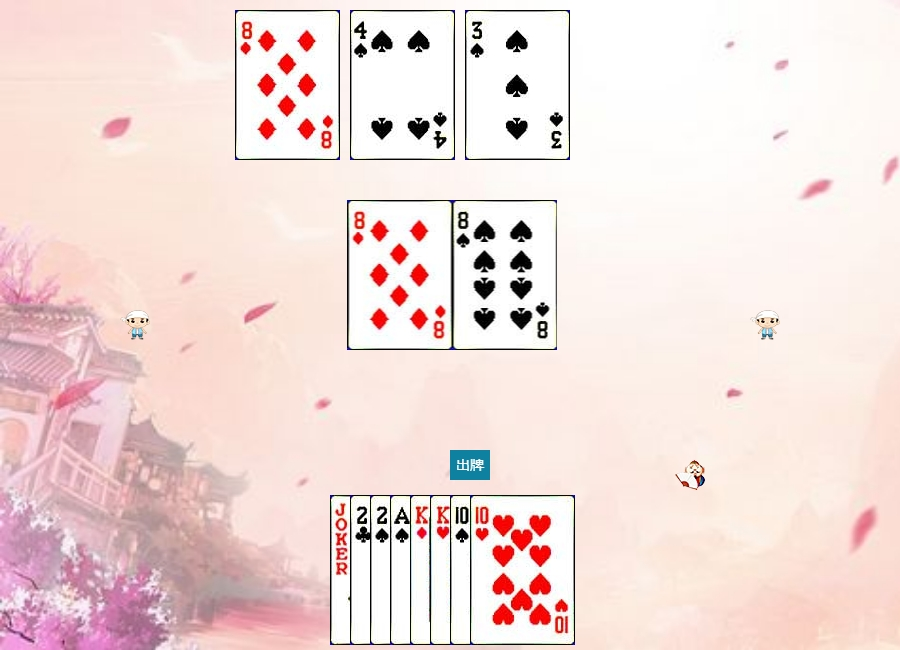10~3: (470, 495, 575, 645)
10~4: (450, 495, 555, 645)
13~1: (410, 495, 515, 645)
13~3: (430, 495, 535, 645)
14~4: (390, 495, 495, 645)
15~2: (350, 495, 455, 645)
15~4: (370, 495, 475, 645)
18~4: (330, 495, 435, 645)
3~4: (465, 10, 570, 160)
4~4: (350, 10, 455, 160)
8~1: (235, 10, 340, 160), (348, 200, 453, 350)
8~4: (453, 200, 558, 350)
